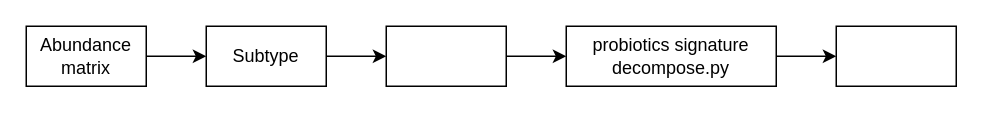
The diagram is 983 pixels wide and 113 high, and some of its shapes have lost their labels. Here are the shapes that lost their labels. From the top down, the centre of each, then its label:
At (445,55): "NMF evaluation".
At (895,55): "Consensus clustering".
